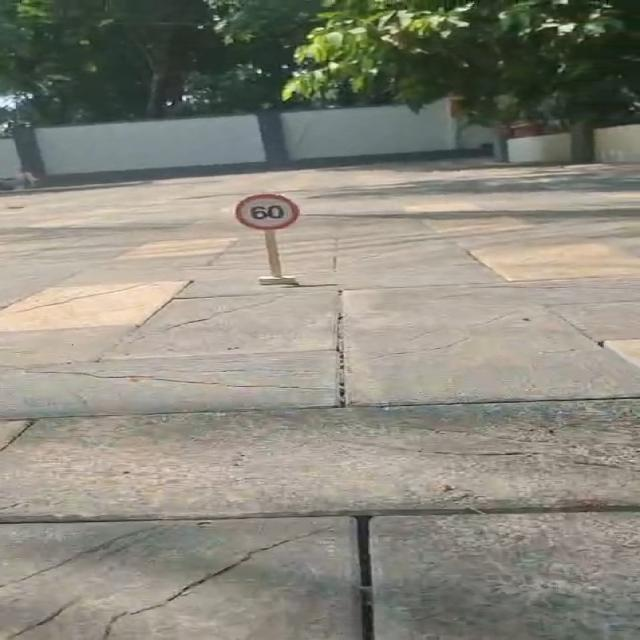Speed60: (232, 193, 302, 232)
